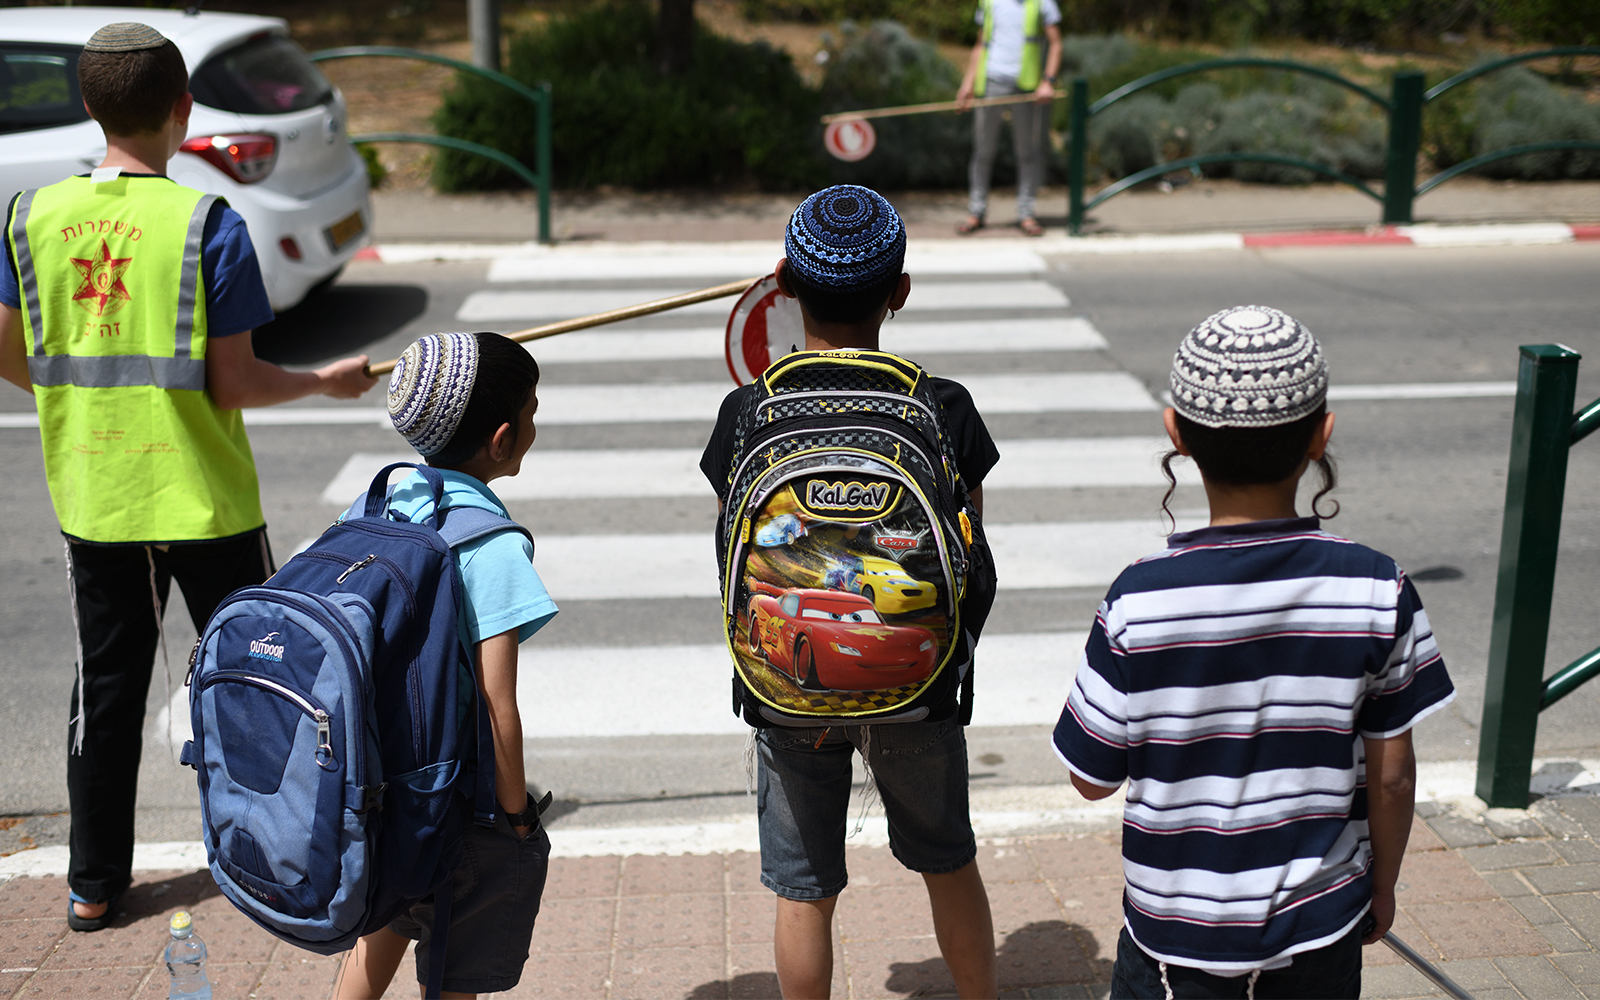person: (1067, 304, 1421, 990), (371, 323, 542, 986)
